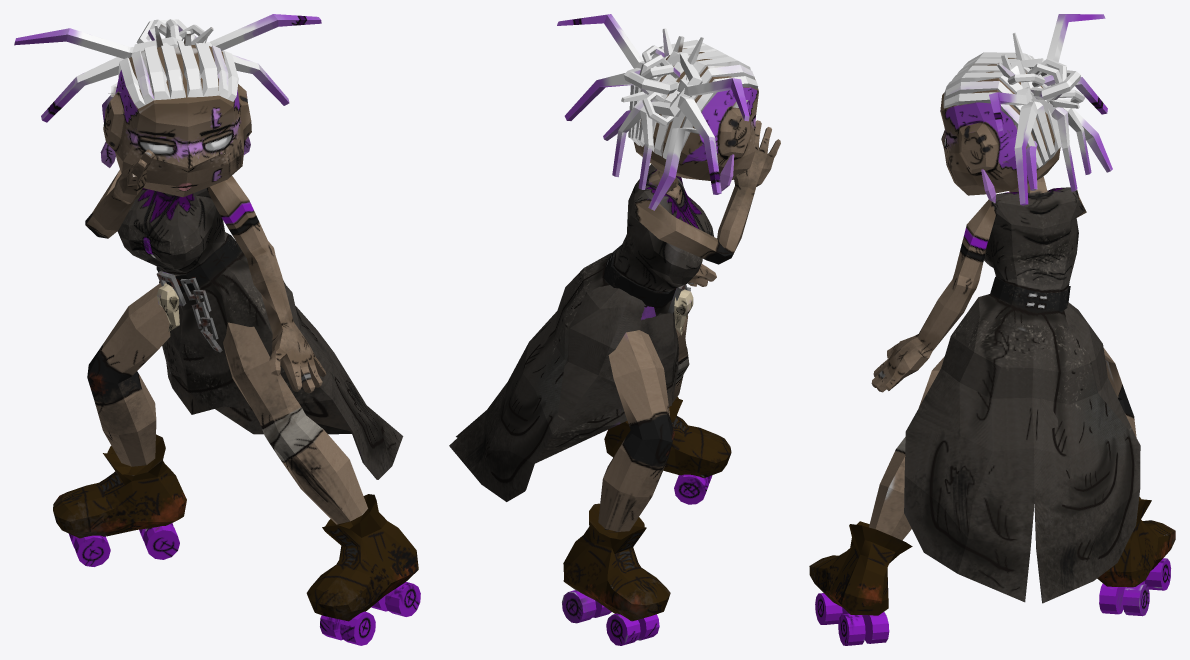
File: bruja_000004.obj
3 renders of one model, left to right at view 1: azimuth 30°, elevation 25°; view 2: azimuth 150°, elevation 25°; view 3: azimuth 270°, elevation 25°, orthographic. The views are drawn at different scales.
Visible parts, largest first — view 1: Bruja_Plane.001; view 2: Bruja_Plane.001; view 3: Bruja_Plane.001.
Part boxes in pixels (<box>): Bruja_Plane.001: <box>14,14,420,645</box>; Bruja_Plane.001: <box>449,14,780,645</box>; Bruja_Plane.001: <box>809,14,1175,645</box>.
Size of the model in its own units: 9.65 by 15.48 by 9.26.
